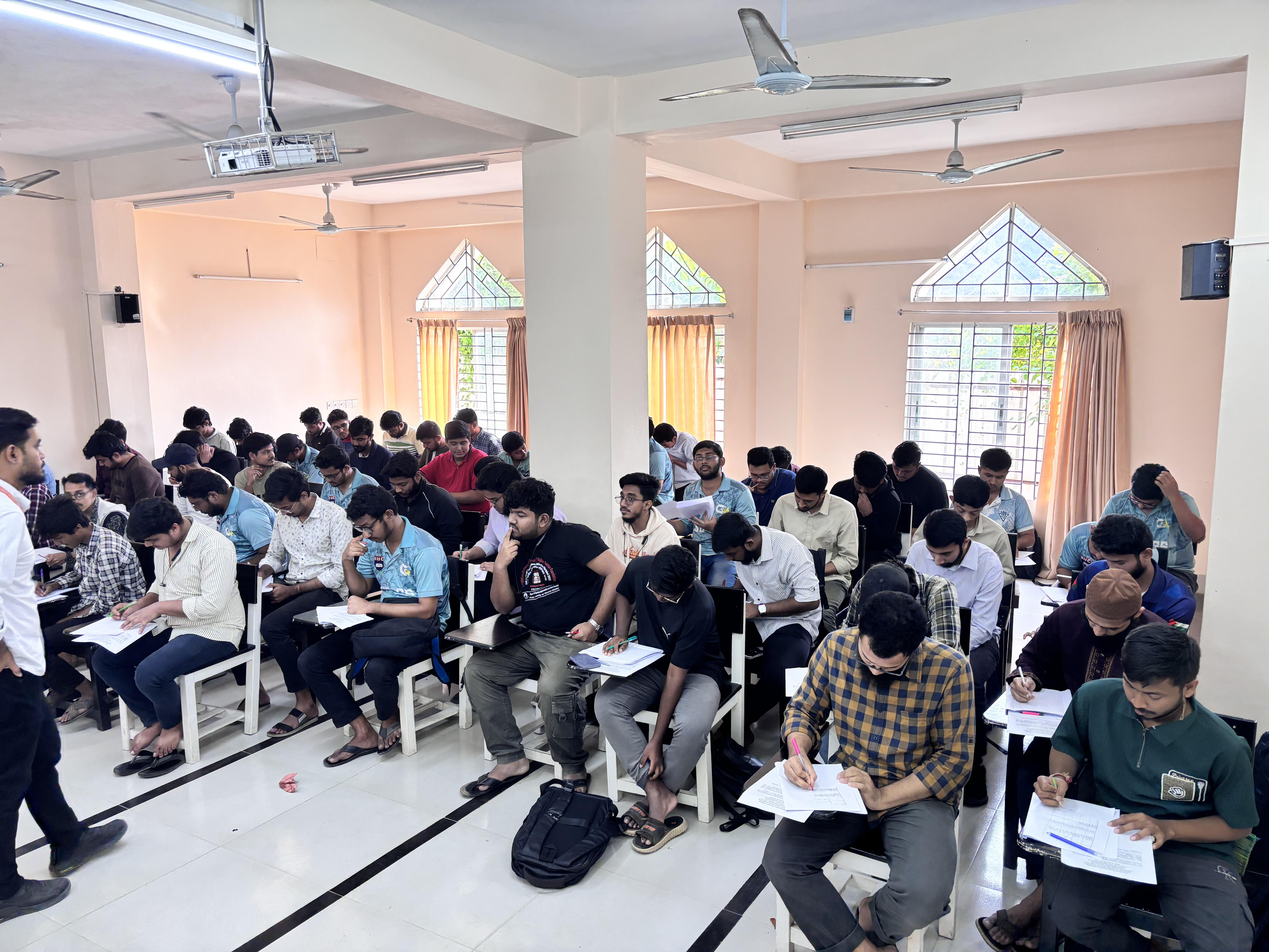copying: (493, 428, 546, 474)
invigilator: (0, 405, 81, 902)
no_cheating: (788, 591, 956, 952), (1051, 650, 1242, 952), (585, 548, 724, 793), (305, 497, 441, 701), (484, 496, 589, 756), (120, 503, 226, 723), (1008, 584, 1136, 736), (37, 496, 124, 656), (251, 475, 342, 618), (705, 524, 810, 636), (911, 516, 1003, 637), (1110, 453, 1217, 539), (1066, 519, 1173, 602), (778, 479, 863, 581), (831, 450, 902, 543), (177, 476, 270, 542), (975, 447, 1044, 521), (892, 438, 951, 523), (80, 439, 170, 494), (610, 477, 666, 556), (933, 481, 1005, 540), (382, 461, 453, 517), (53, 473, 116, 524), (378, 408, 427, 469), (1059, 510, 1110, 564), (743, 441, 794, 495), (342, 417, 383, 472), (173, 401, 234, 437), (297, 401, 337, 446), (274, 431, 308, 482), (659, 419, 703, 455)
side_talking: (241, 430, 283, 501)
suspicious_moving: (673, 444, 744, 535), (434, 426, 484, 493), (152, 443, 210, 485), (324, 405, 364, 438)
